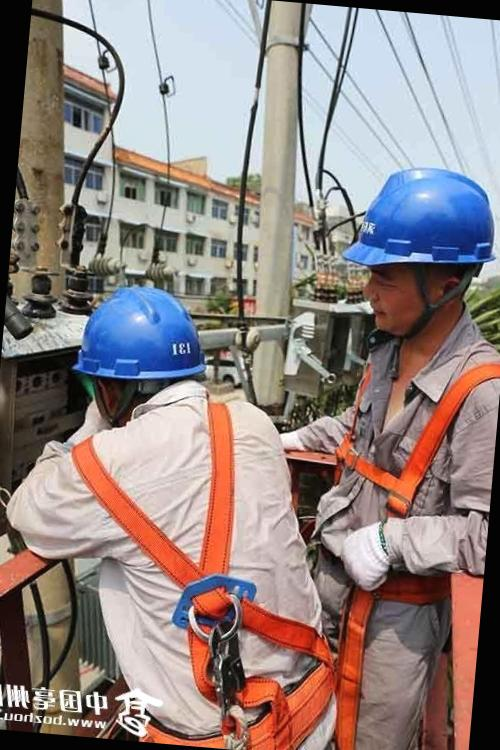helmet: (58, 272, 222, 392), (347, 155, 498, 278)
person: (0, 269, 319, 750), (269, 139, 500, 750)
